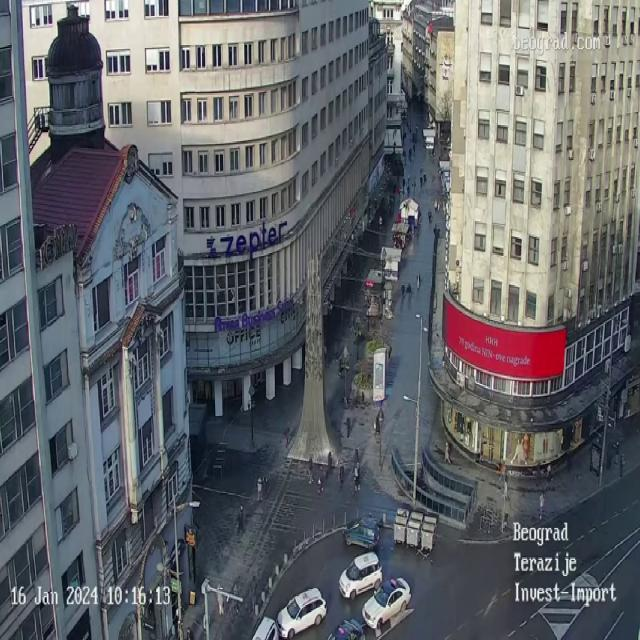car: (276, 587, 327, 639), (362, 577, 411, 629), (338, 551, 382, 600), (342, 516, 380, 551), (327, 618, 366, 640), (252, 616, 278, 640)
